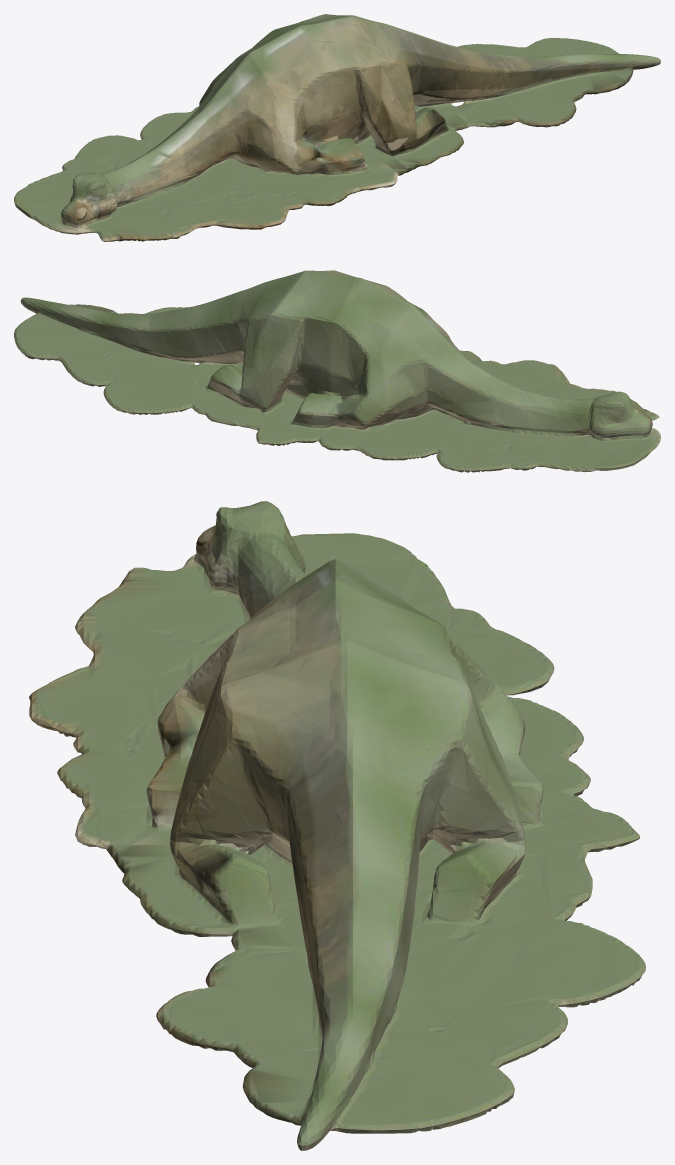
File: diplodocus.glb
3 renders of one model, top to bottom at view 1: azimuth 30°, elevation 25°; view 2: azimuth 150°, elevation 25°; view 3: azimuth 270°, elevation 25°, orthographic. The views are drawn at different scales.
Visible parts, largest first — view 1: tmp4eghxxzp.ply; view 2: tmp4eghxxzp.ply; view 3: tmp4eghxxzp.ply.
Part boxes in pixels (bbox=[...]): tmp4eghxxzp.ply: bbox=[14, 14, 660, 241]; tmp4eghxxzp.ply: bbox=[14, 270, 660, 472]; tmp4eghxxzp.ply: bbox=[29, 501, 645, 1150].
Bounding box in the file's own units: 1.99 × 0.3652 × 0.8467.
Materials: 1 (1 with a texture image).
